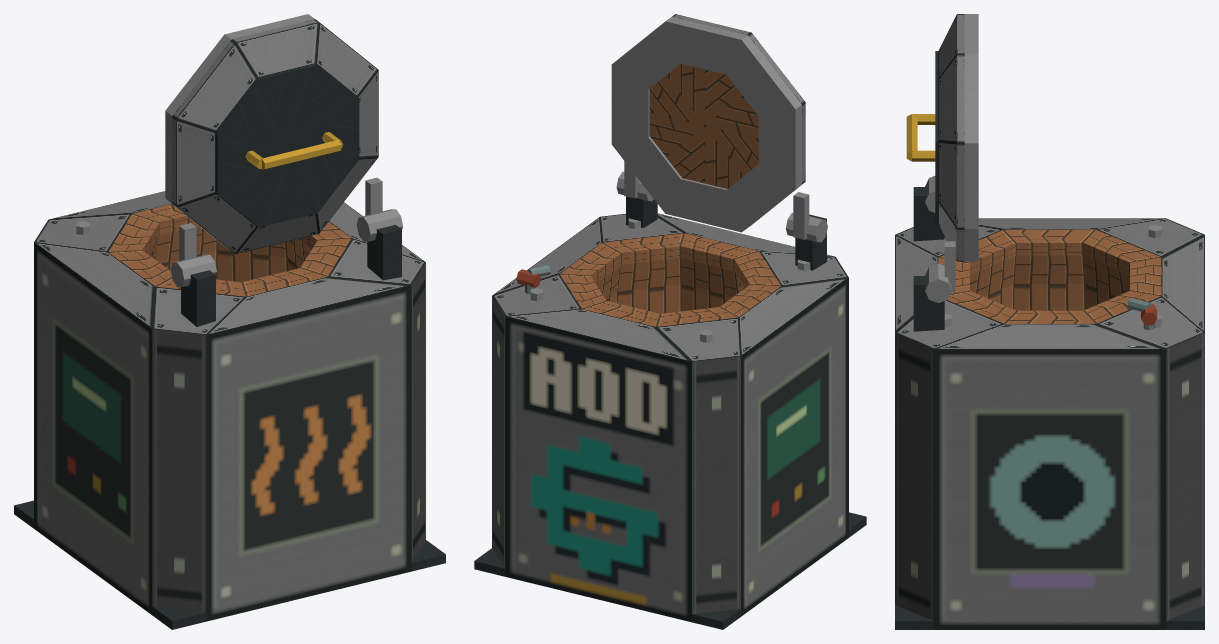
Rendered from small_aod_steel_open.obj.
The picture shows the model from 3 angles, left to right: view 1: azimuth 30°, elevation 25°; view 2: azimuth 150°, elevation 25°; view 3: azimuth 270°, elevation 25°; orthographic projection. The views are drawn at different scales.
Visible parts, largest first — view 1: contact_south, lid, contact_west, cut_corners, shoulder, rim, hinge, lining, sole_edge; view 2: contact_north, lid, contact_west, shoulder, cut_corners, rim, lining, hinge, sole_edge, gas_trim; view 3: contact_east, cut_corners, shoulder, lid, rim, lining, hinge, sole_edge, gas_trim.
Part boxes in pixels (x1,y1,x2,y2): contact_south: (206, 285, 411, 621); lid: (165, 14, 382, 260); contact_west: (34, 242, 152, 614); cut_corners: (152, 263, 425, 612); shoulder: (34, 191, 425, 335); rim: (108, 204, 351, 296); hinge: (170, 209, 402, 326); lining: (148, 226, 311, 282); sole_edge: (14, 500, 445, 629); contact_north: (505, 316, 691, 622); lid: (611, 14, 809, 239); contact_west: (741, 277, 848, 616); shoulder: (492, 213, 848, 361); cut_corners: (492, 296, 740, 614); rim: (559, 233, 781, 326); lining: (596, 258, 744, 313); hinge: (616, 171, 827, 270); sole_edge: (474, 512, 866, 629); gas_trim: (516, 265, 550, 293); contact_east: (933, 349, 1166, 629); cut_corners: (895, 333, 1204, 620); shoulder: (895, 218, 1204, 349); lid: (906, 14, 978, 291); rim: (938, 229, 1161, 323); lining: (970, 255, 1129, 310); hinge: (913, 176, 951, 331); sole_edge: (895, 605, 1204, 629); gas_trim: (1127, 298, 1157, 330).
Bounding box in the file's own units: 1 × 1.89 × 1.
14 materials, 14 textured.
